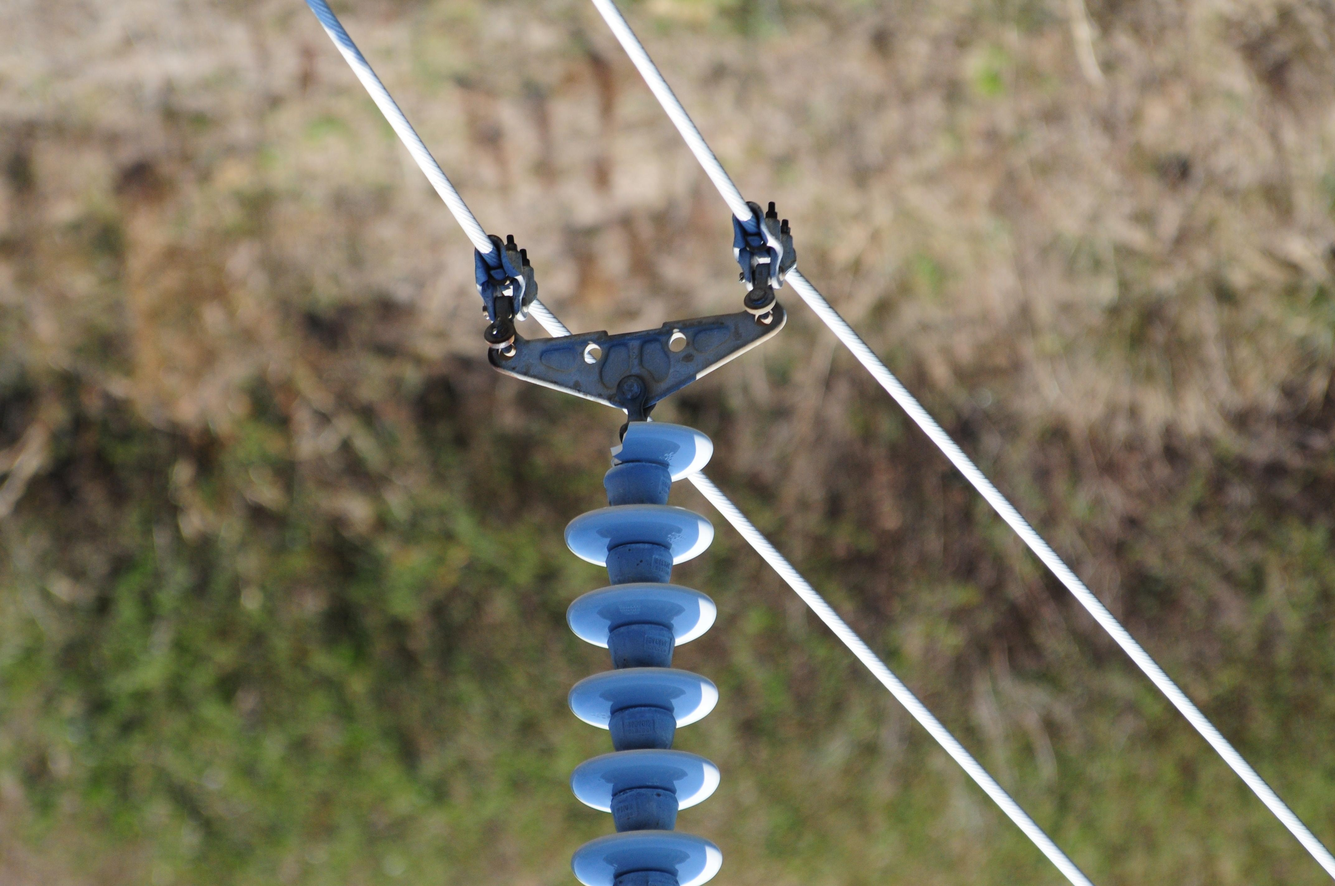damaged: (594, 424, 711, 474)
insulator: (562, 413, 722, 886)
